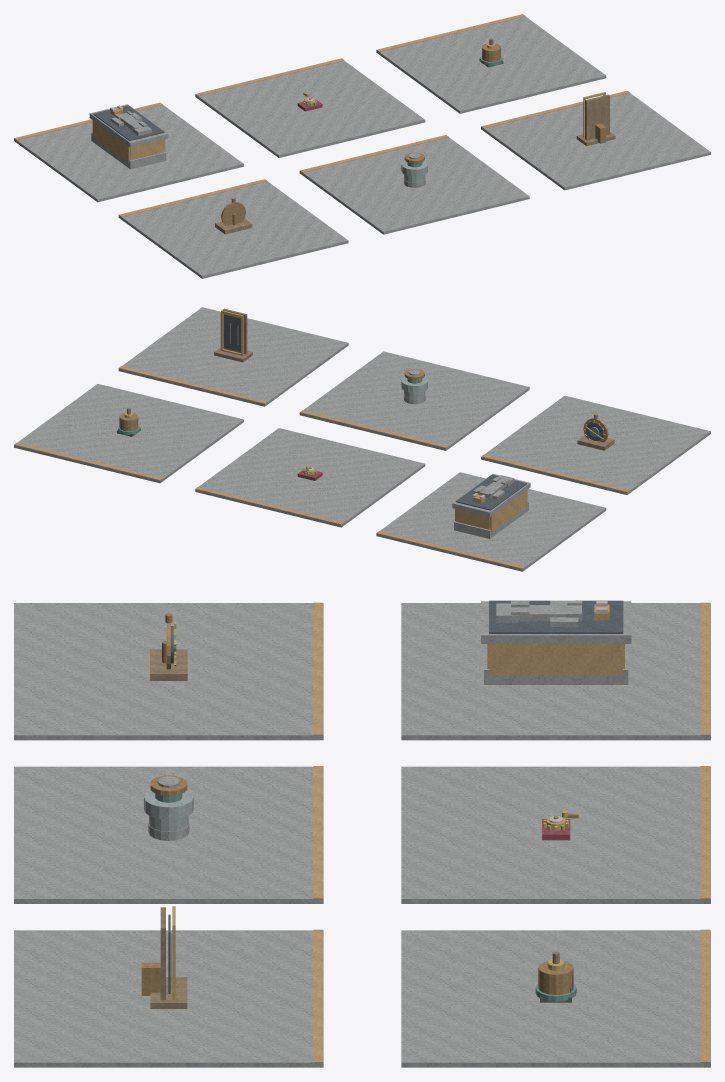
Rendered from level_blockout_kit_castle_p04.glb.
3 views of the same model, one above another, from view 1: azimuth 30°, elevation 25°; view 2: azimuth 150°, elevation 25°; view 3: azimuth 270°, elevation 25° (orthographic). The views are drawn at different scales.
Visible parts, largest first — view 1: level_blockout_kit_castle_p04; view 2: level_blockout_kit_castle_p04; view 3: level_blockout_kit_castle_p04.
Boxes of the visible parts, x1,y1,x2,y2 form: level_blockout_kit_castle_p04: [14, 14, 710, 278]; level_blockout_kit_castle_p04: [14, 307, 710, 571]; level_blockout_kit_castle_p04: [14, 600, 710, 1067].
Bounding box in the file's own units: 19.65 × 1.71 × 12.6.
Materials: 11 (11 with a texture image).
